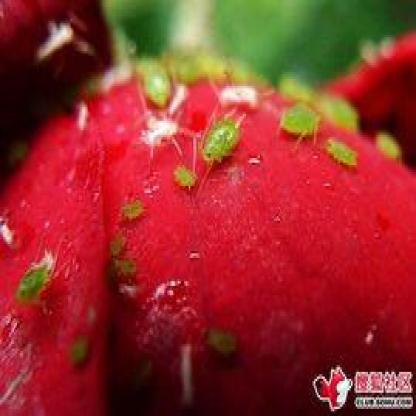aphid: (193, 103, 245, 167), (16, 244, 61, 314), (308, 78, 363, 132), (272, 96, 326, 145), (319, 128, 364, 176), (136, 51, 171, 109), (176, 58, 233, 90), (202, 323, 241, 362), (371, 122, 403, 169), (171, 153, 206, 191), (69, 331, 92, 373), (107, 221, 128, 262), (117, 194, 146, 221), (112, 256, 138, 279)
